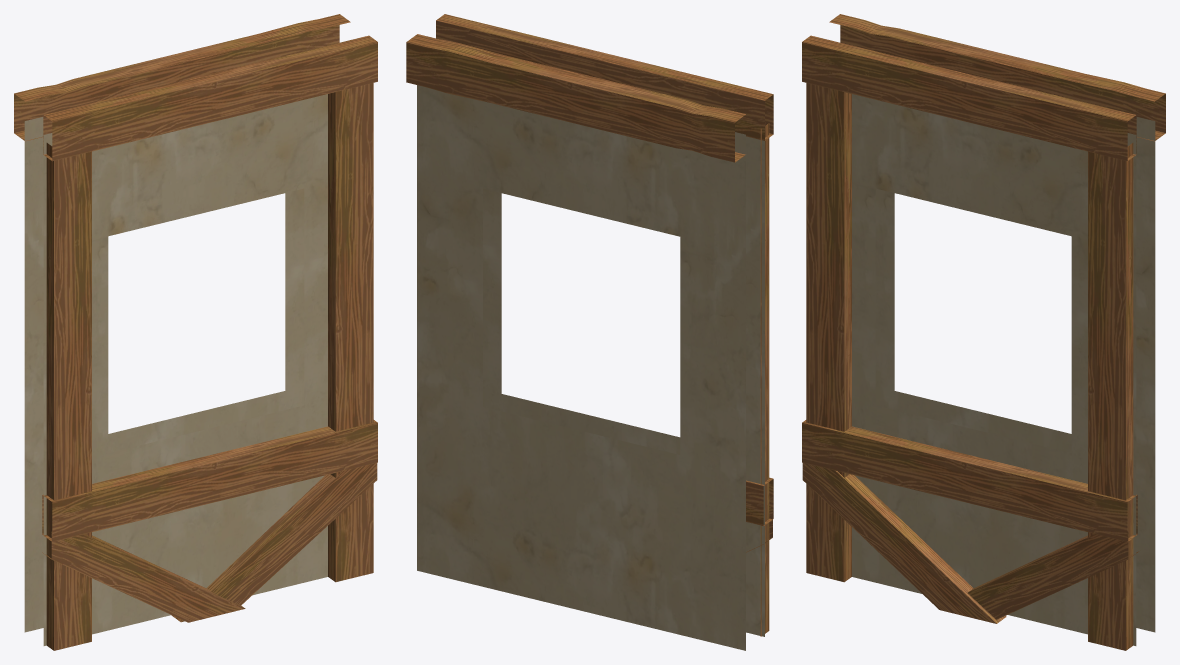
File: Wall_Plaster_Window_Wide_Flat2.gltf
The picture shows the model from 3 angles, left to right: view 1: azimuth 30°, elevation 25°; view 2: azimuth 150°, elevation 25°; view 3: azimuth 330°, elevation 25°; orthographic projection.
Parts seen in each view (by area): view 1: Wall_Plaster_Window_Wide_Flat2; view 2: Wall_Plaster_Window_Wide_Flat2; view 3: Wall_Plaster_Window_Wide_Flat2.
Part boxes in pixels (x1=…): Wall_Plaster_Window_Wide_Flat2: x1=14, y1=14, x2=377, y2=650; Wall_Plaster_Window_Wide_Flat2: x1=406, y1=14, x2=773, y2=650; Wall_Plaster_Window_Wide_Flat2: x1=802, y1=14, x2=1165, y2=650.
Size of the model in its own units: 2 by 3.15 by 0.4065.
2 materials, 2 textured.
